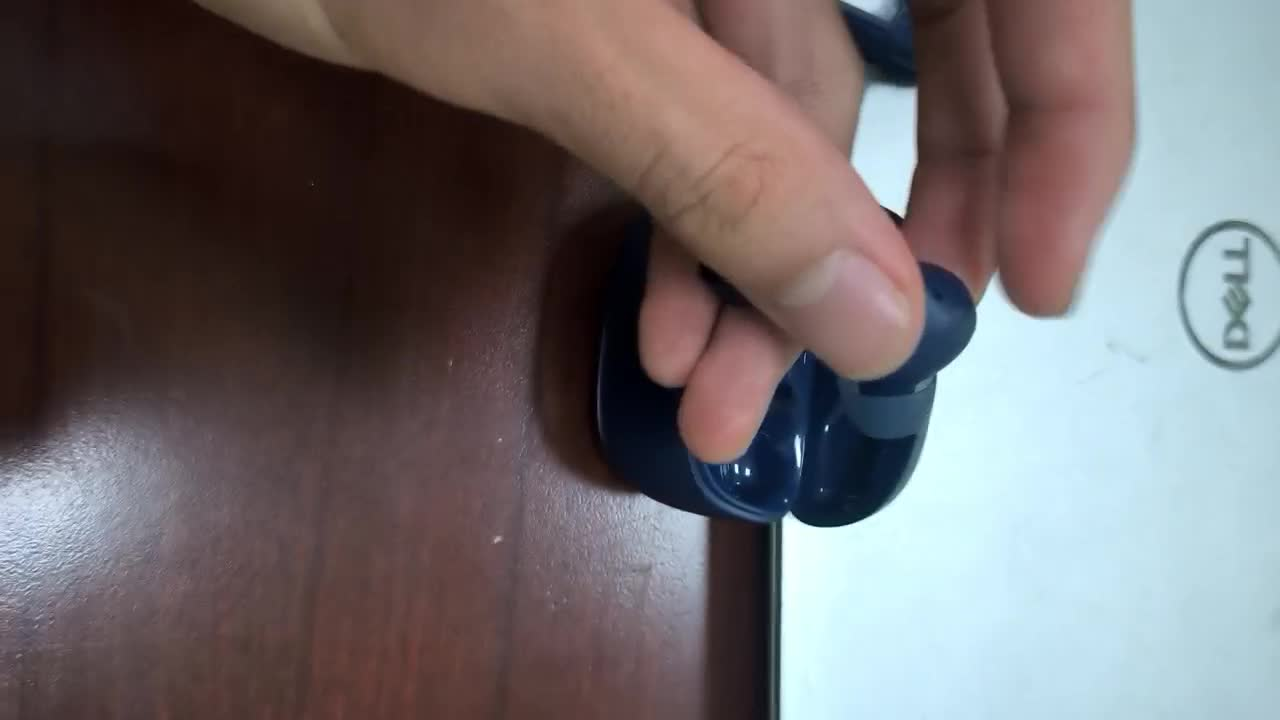Earbud: (792, 263, 975, 525)
